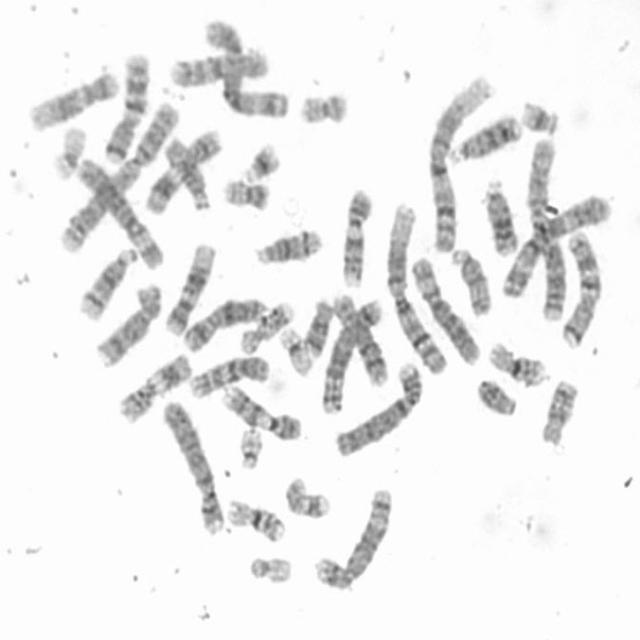A1: (424, 70, 494, 254), (382, 197, 449, 377)
A2: (55, 98, 181, 257), (526, 133, 570, 324)
A3: (498, 190, 613, 298), (200, 14, 290, 119)
B4: (332, 358, 424, 459), (159, 396, 225, 536)
B5: (310, 483, 396, 592), (318, 293, 385, 415)
C10: (166, 45, 272, 90), (186, 351, 270, 401)
C11: (140, 125, 224, 216), (115, 349, 193, 425)
C12: (24, 66, 121, 134), (161, 239, 217, 338)
C6: (73, 153, 166, 272), (408, 253, 481, 367)
C7: (100, 48, 152, 166), (557, 228, 603, 349)
C8: (92, 278, 164, 370), (329, 288, 389, 388)
C9: (219, 381, 303, 443), (337, 185, 374, 290)
D13: (444, 112, 524, 166), (478, 176, 519, 257)
D14: (74, 244, 138, 322), (251, 224, 326, 268)
D15: (159, 136, 214, 212), (448, 244, 493, 318)
E16: (222, 496, 288, 544), (486, 337, 548, 388)
E17: (237, 297, 297, 356), (281, 474, 332, 521)
E18: (538, 374, 578, 448), (301, 295, 335, 357)
F19: (48, 122, 89, 182), (276, 324, 314, 378)
F20: (296, 88, 350, 127), (220, 175, 272, 213)
G21: (240, 138, 282, 185), (517, 97, 560, 138)
G22: (244, 552, 294, 586), (235, 423, 265, 471)
X: (181, 293, 268, 354)
Y: (474, 374, 518, 418)
